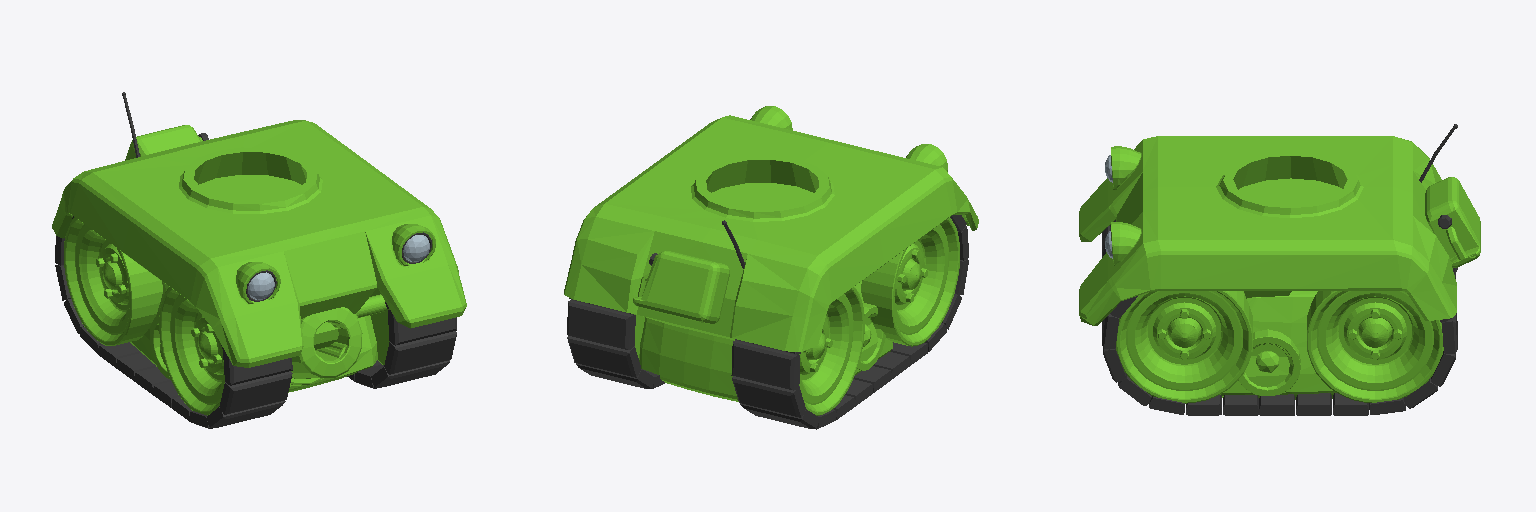
File: tank.obj
3 views of the same model, side by side, from view 1: azimuth 30°, elevation 25°; view 2: azimuth 150°, elevation 25°; view 3: azimuth 270°, elevation 25° (orthographic).
Parts seen in each view (by area): view 1: TankChassis, TankTracksRight, TankTracksLeft, TankTurret; view 2: TankChassis, TankTracksRight, TankTurret, TankTracksLeft; view 3: TankChassis, TankTracksLeft, TankTurret.
Part boxes in pixels (left/top/right/bottom): TankChassis: left=52, top=120, right=466, bottom=379; TankTracksRight: left=55, top=216, right=292, bottom=428; TankTracksLeft: left=347, top=288, right=456, bottom=388; TankTurret: left=122, top=92, right=377, bottom=392; TankChassis: left=564, top=106, right=978, bottom=370; TankTracksRight: left=731, top=215, right=968, bottom=429; TankTurret: left=639, top=220, right=892, bottom=401; TankTracksLeft: left=567, top=298, right=664, bottom=388; TankChassis: left=1079, top=136, right=1480, bottom=395; TankTracksLeft: left=1102, top=291, right=1457, bottom=415; TankTurret: left=1220, top=124, right=1457, bottom=399.
Size of the model in its own units: 1.7 by 1.44 by 2.37.